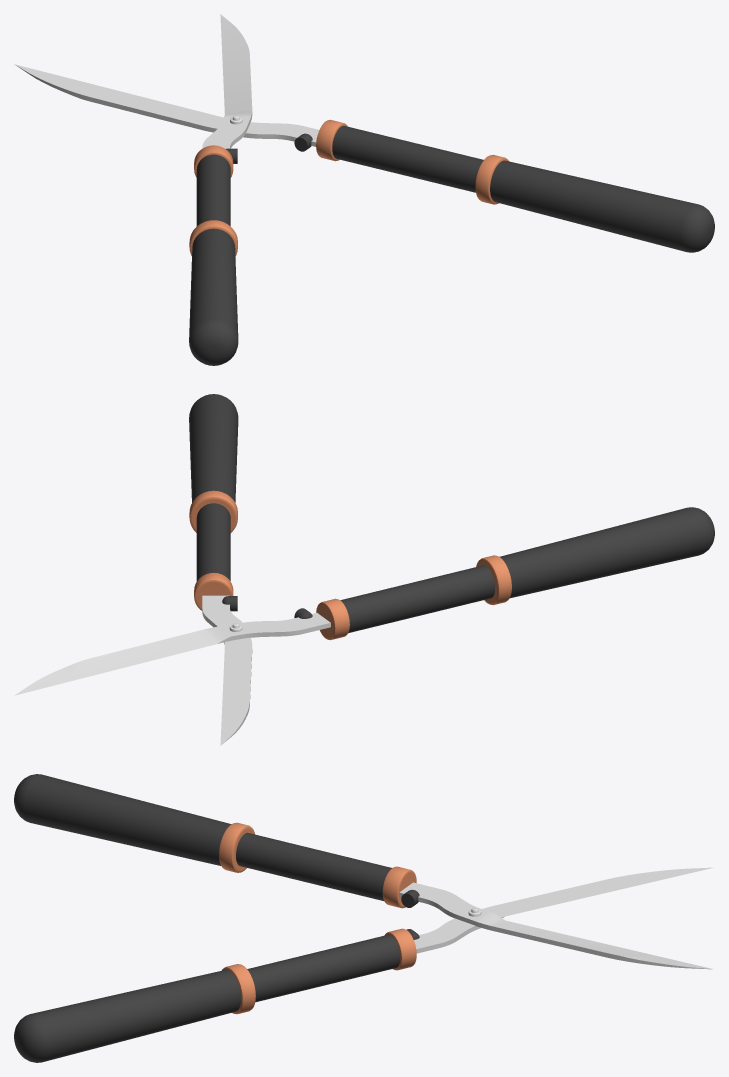
Rendered from Shears_SA.fbx.
3 views of the same model, one above another, from view 1: azimuth 30°, elevation 25°; view 2: azimuth 150°, elevation 25°; view 3: azimuth 270°, elevation 25° (orthographic).
Visible parts, largest first — view 1: Shears; view 2: Shears; view 3: Shears.
Boxes of the visible parts, x1,y1,x2,y2 form: Shears: (14,14,714,365); Shears: (14,394,714,745); Shears: (14,774,713,1062).
Size of the model in its own units: 113 by 10.02 by 131.
